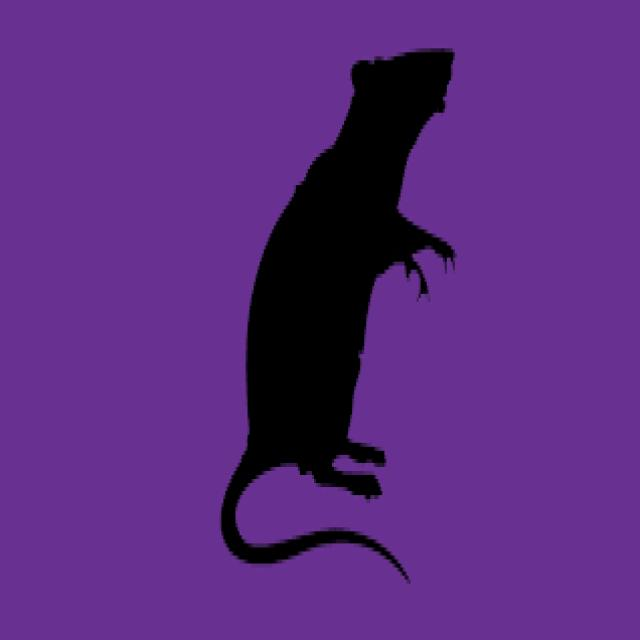rat: (219, 40, 457, 572)
